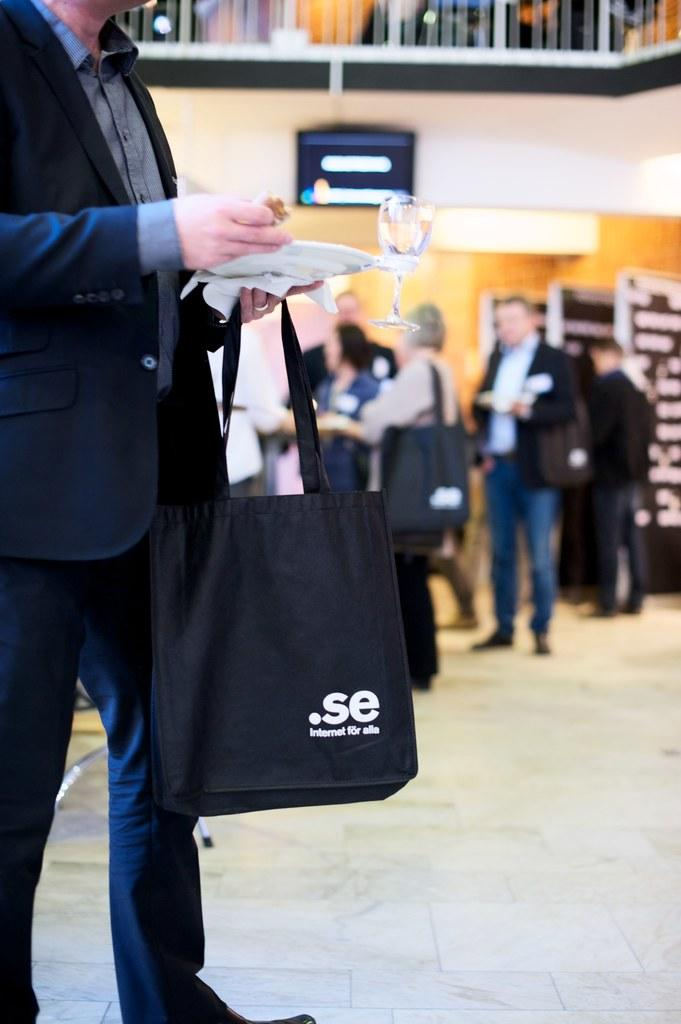Computer-monitor: (294, 125, 416, 208)
Luggage-and-bags: (146, 292, 420, 819)
